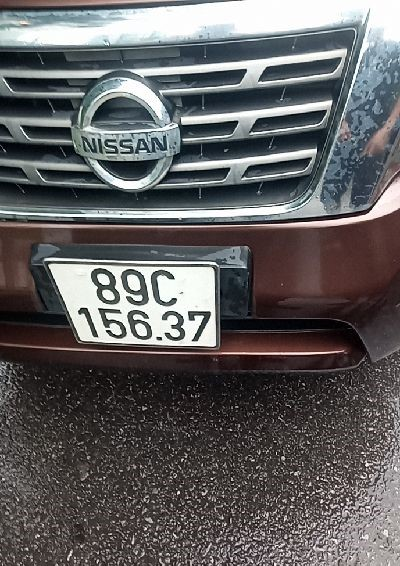number_plate: (49, 251, 235, 355)
